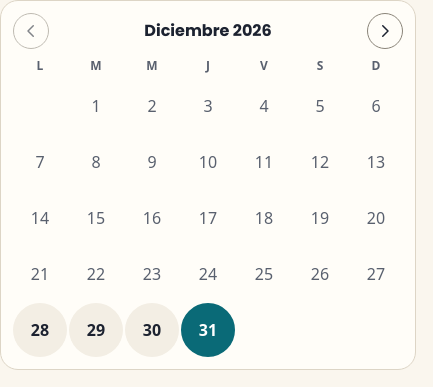
CalendarioViaje › un viaje de dos meses tiene flechas y cambia de mes al moverse con el teclado
Expected: the 1st button with class "calendario__flecha" is disabled, [13, 13, 49, 49]
Click the 2nd button with class "calendario__flecha".
click(385, 31)  # box [367, 13, 403, 49]
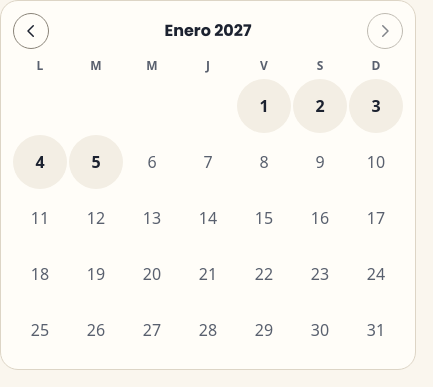
Now the heading with class "calendario__mes" reads "enero 2027", box [164, 19, 252, 42]
Click the 1st button with class "calendario__flecha".
click(31, 31)  # box [13, 13, 49, 49]
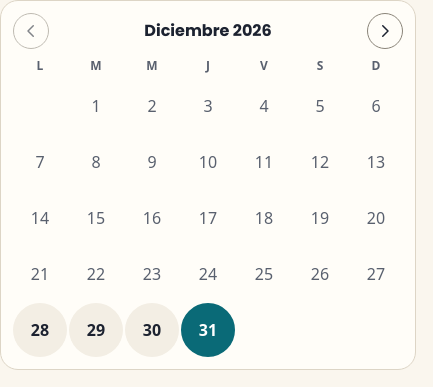
Now the heading with class "calendario__mes" reads "diciembre 2026", box [144, 19, 272, 42]
Press ArrowRight in the button "31", box [181, 303, 235, 357]
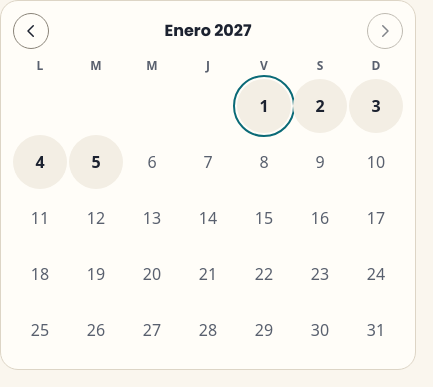
Now the heading with class "calendario__mes" reads "enero 2027", box [164, 19, 252, 42]
